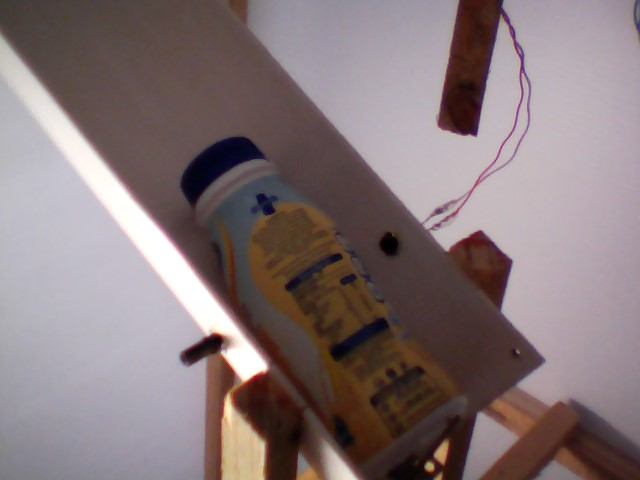plastico: (169, 133, 474, 474)
